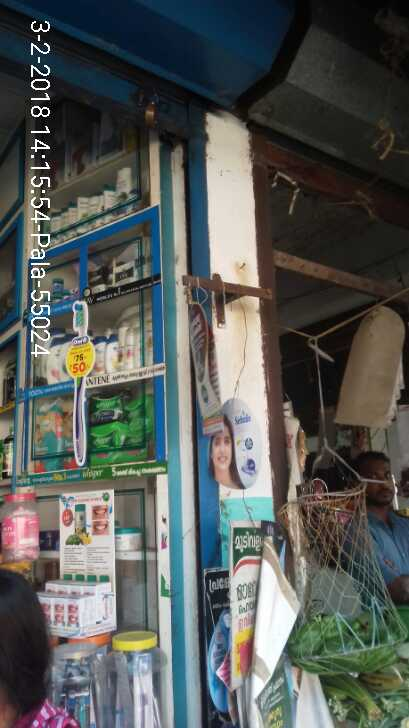vicks: (33, 274, 73, 312)
